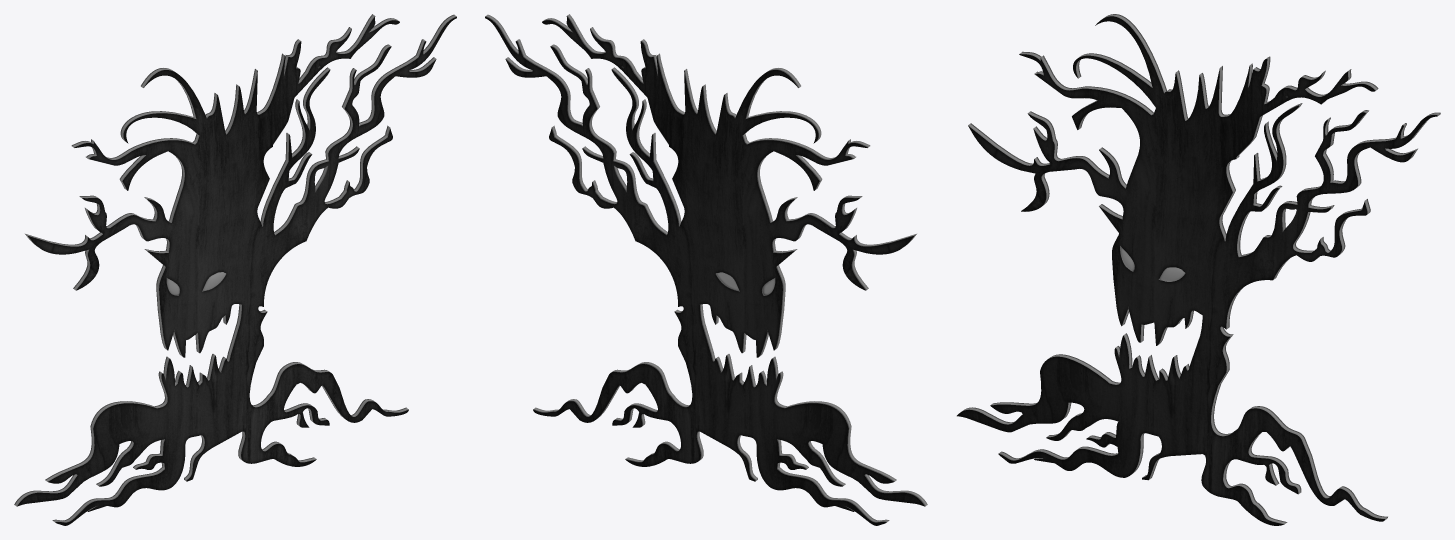
The model's file is scary_tree.glb.
3 renders of one model, left to right at view 1: azimuth 30°, elevation 25°; view 2: azimuth 150°, elevation 25°; view 3: azimuth 330°, elevation 25°, orthographic. The views are drawn at different scales.
Visible parts, largest first — view 1: Material3-material, Material4-material; view 2: Material3-material, Material4-material; view 3: Material3-material, Material4-material.
Boxes of the visible parts, x1,y1,x2,y2 form: Material3-material: (17,16,456,525); Material4-material: (14,14,456,522); Material3-material: (485,16,924,525); Material4-material: (485,14,927,522); Material3-material: (957,16,1437,525); Material4-material: (963,14,1440,524).
Bounding box in the file's own units: 2.6 × 2.46 × 0.0411.
4 materials, 3 textured.
